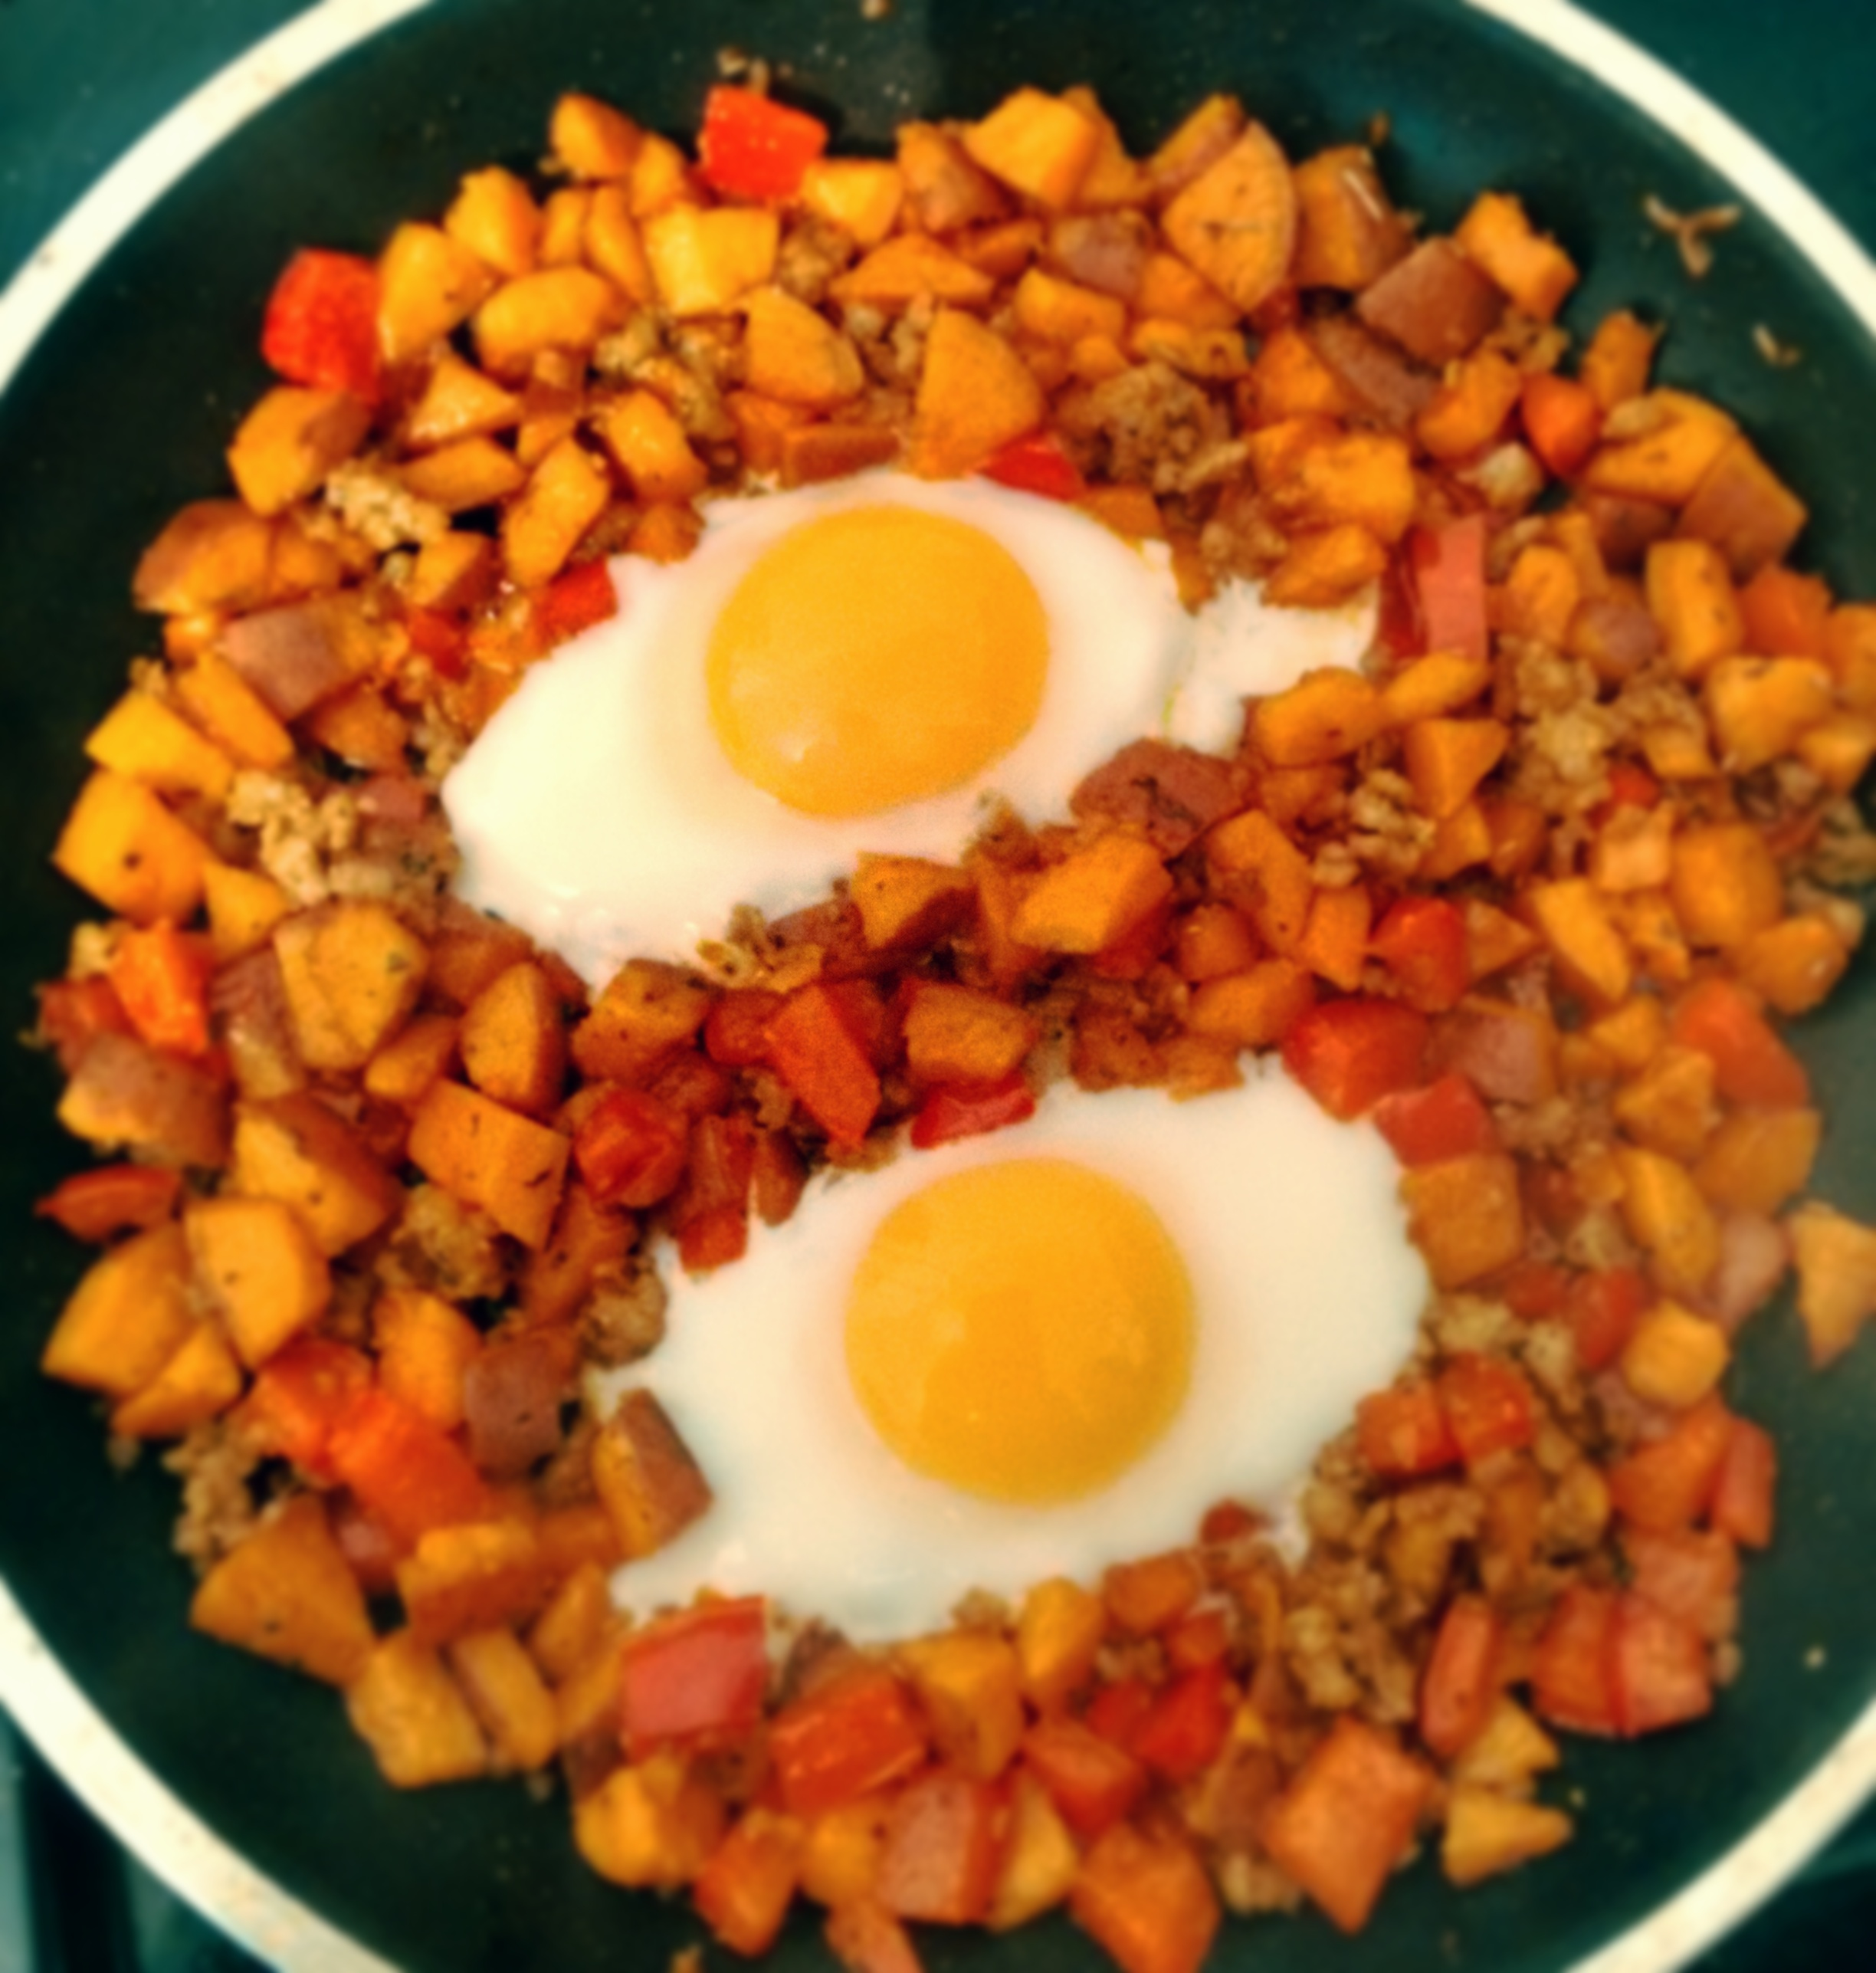fried egg: (636, 1046, 1406, 1619), (493, 469, 1224, 946)
